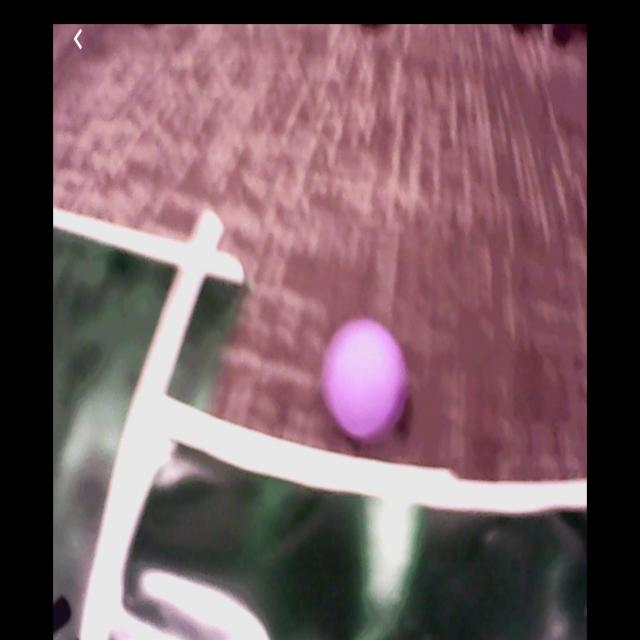ball: (325, 320, 405, 440)
